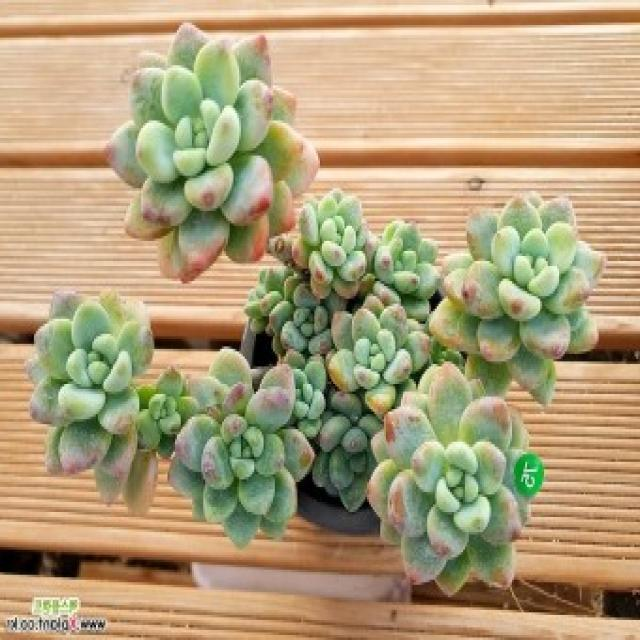LumiRose: (108, 23, 319, 281), (368, 362, 529, 594), (429, 193, 605, 403), (169, 348, 314, 546), (29, 293, 156, 509), (328, 295, 430, 417), (290, 190, 379, 313), (312, 392, 381, 511), (374, 220, 440, 321), (138, 367, 199, 457)
